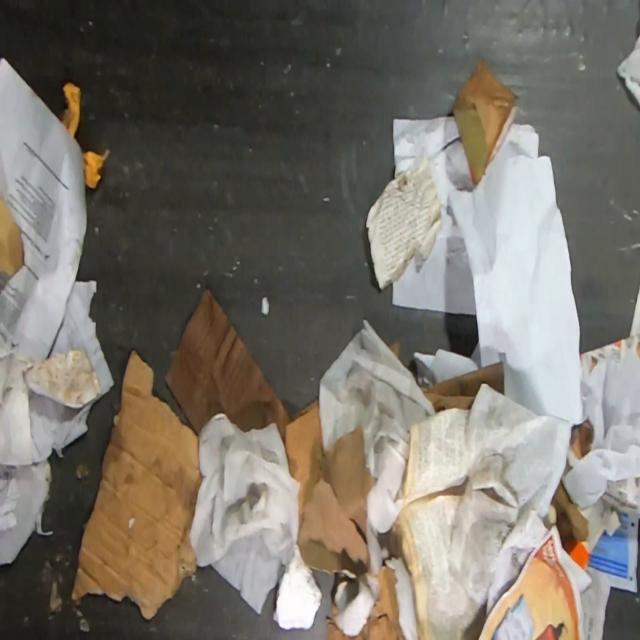cardboard: (68, 348, 202, 619), (285, 396, 421, 640), (162, 287, 294, 447), (0, 348, 102, 465), (450, 56, 522, 188), (418, 361, 504, 414), (0, 186, 24, 299), (388, 337, 401, 359)
soft_plastic: (616, 31, 640, 108)
